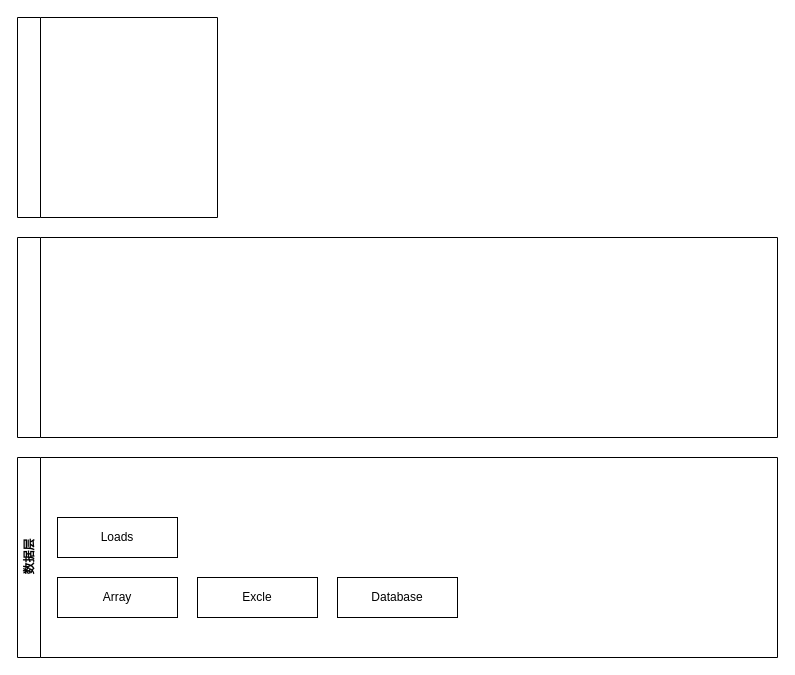
Some shapes in this 795 by 675 pixel diagram are drawn without their labels. Here are the shapes that lost their labels. From the top down, the centre of each, then its label:
At (x=117, y=117): "展示层".
At (x=397, y=337): "绘制层".
